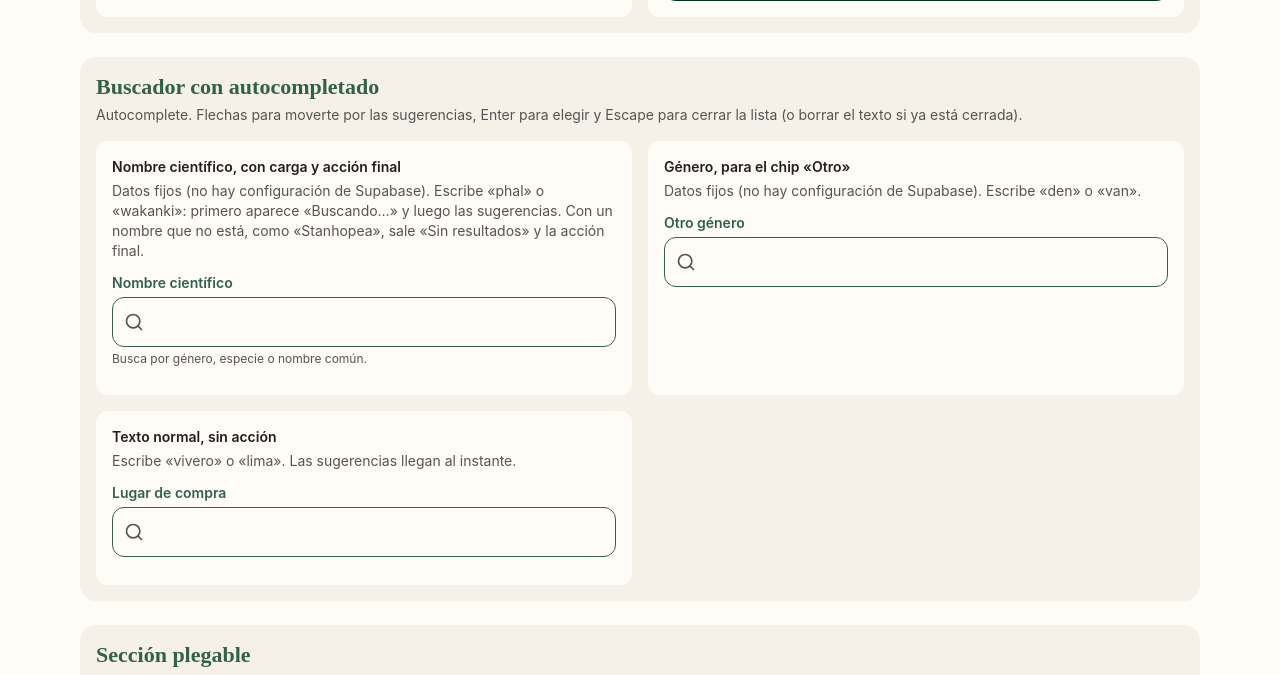
Test case: ShowcasePage › sin configuración de Supabase, los buscadores usan los datos fijos
(page scrolled)
Expected: the text "Datos fijos" is shown 2 times, x1=112 y1=181 x2=616 y2=261; x1=664 y1=181 x2=1168 y2=201
Type "wakanki" into the dropdown labelled "Nombre científico" at (364, 322), box x1=112 y1=297 x2=616 y2=347
Wait 1000 ms
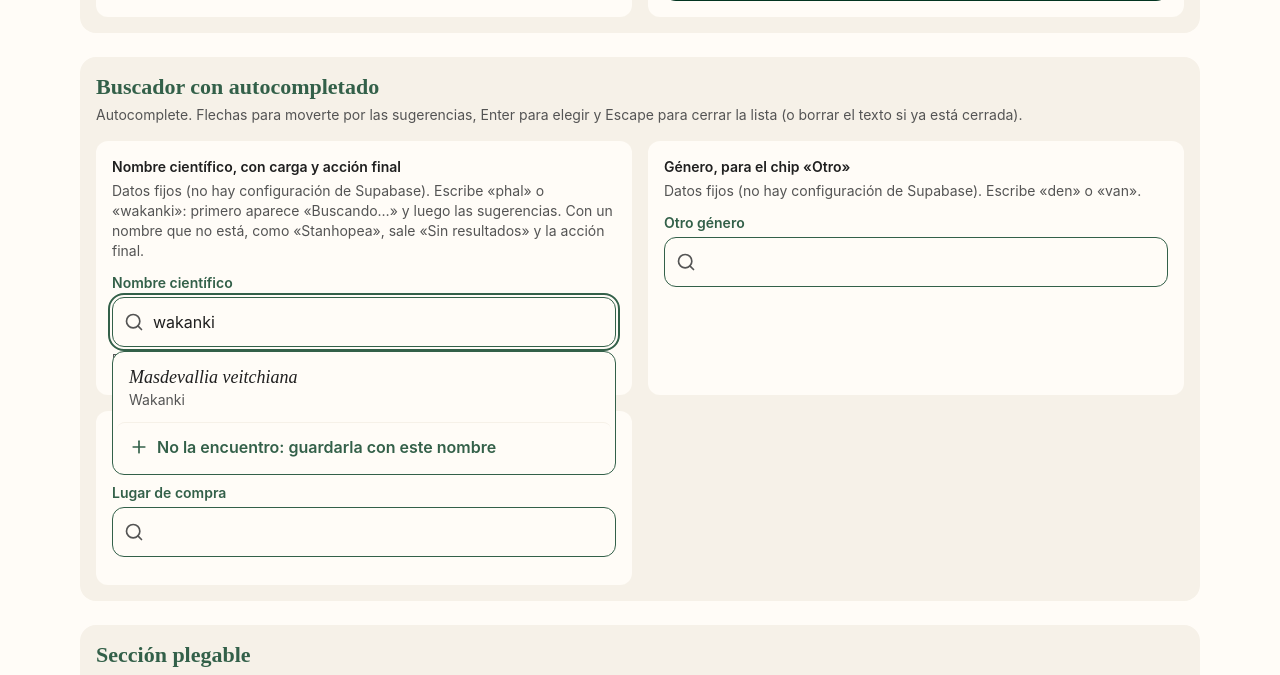
Now the option named "Masdevallia veitchiana," is shown, box x1=128 y1=367 x2=298 y2=408
Type "den" into the dropdown labelled "Otro género" at (916, 262), box x1=664 y1=237 x2=1168 y2=287
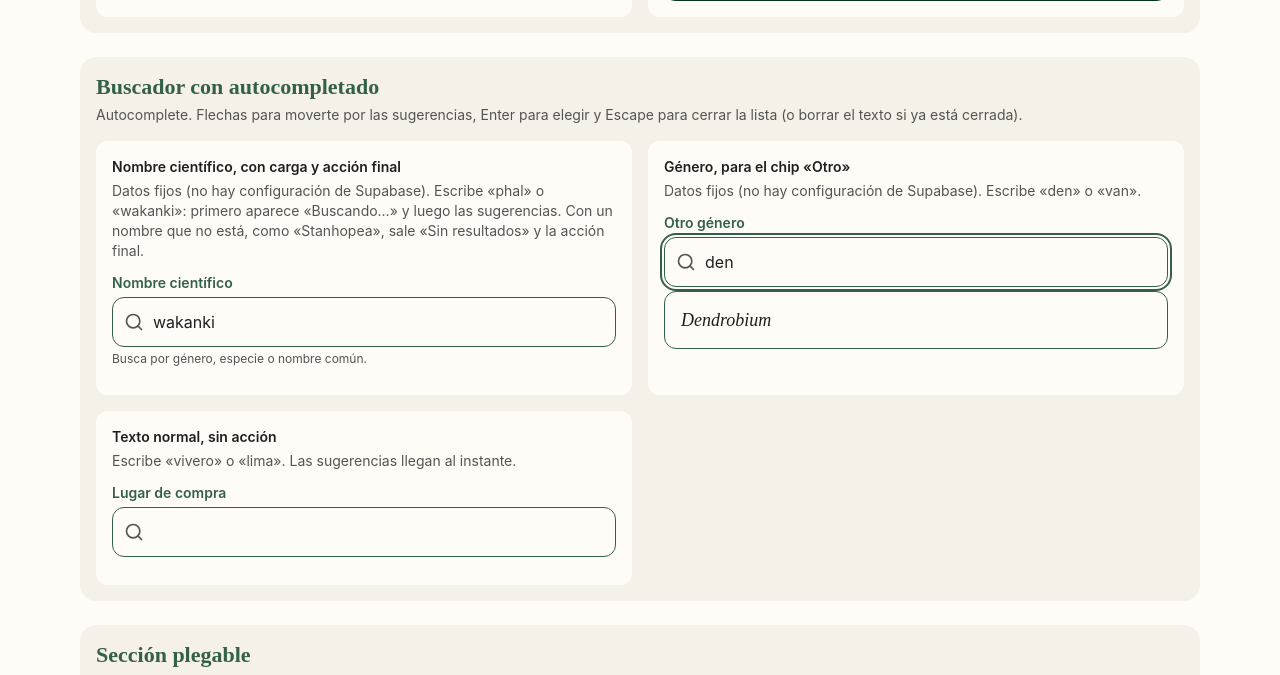
Now the option "Dendrobium" is shown, box x1=681 y1=310 x2=771 y2=330
